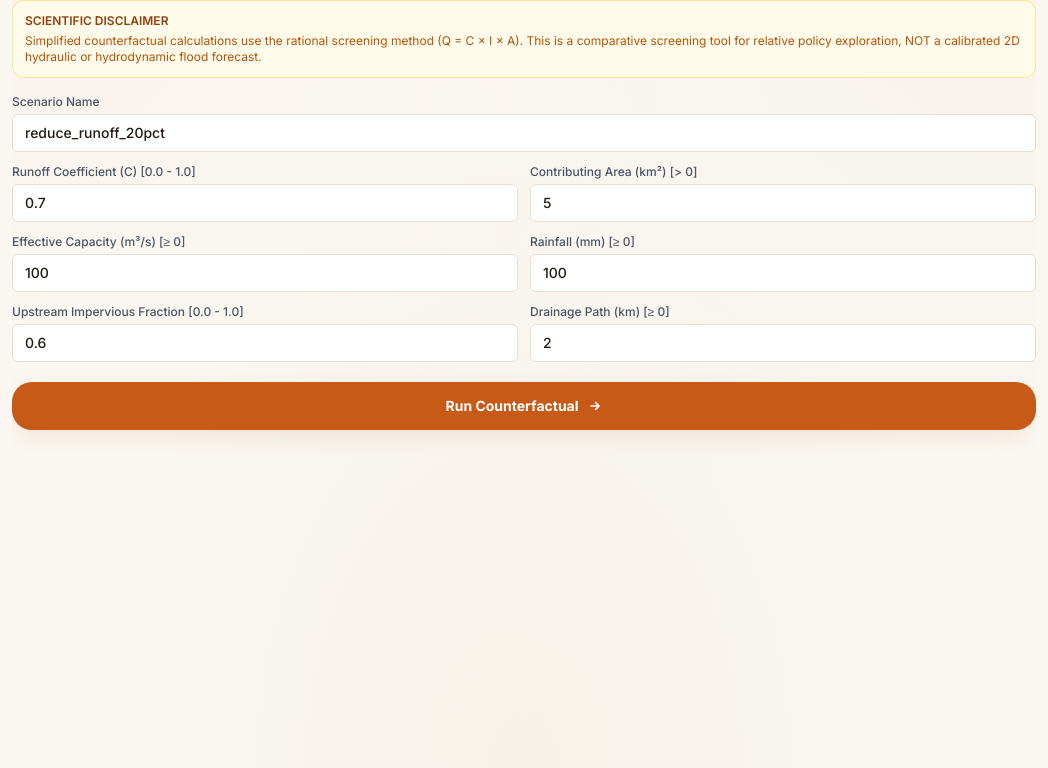
Scenario: CounterfactualForm › submits counterfactual and renders proxy results
Click the button "Run Counterfactual". click: (524, 406)
box: [12, 382, 1036, 430]
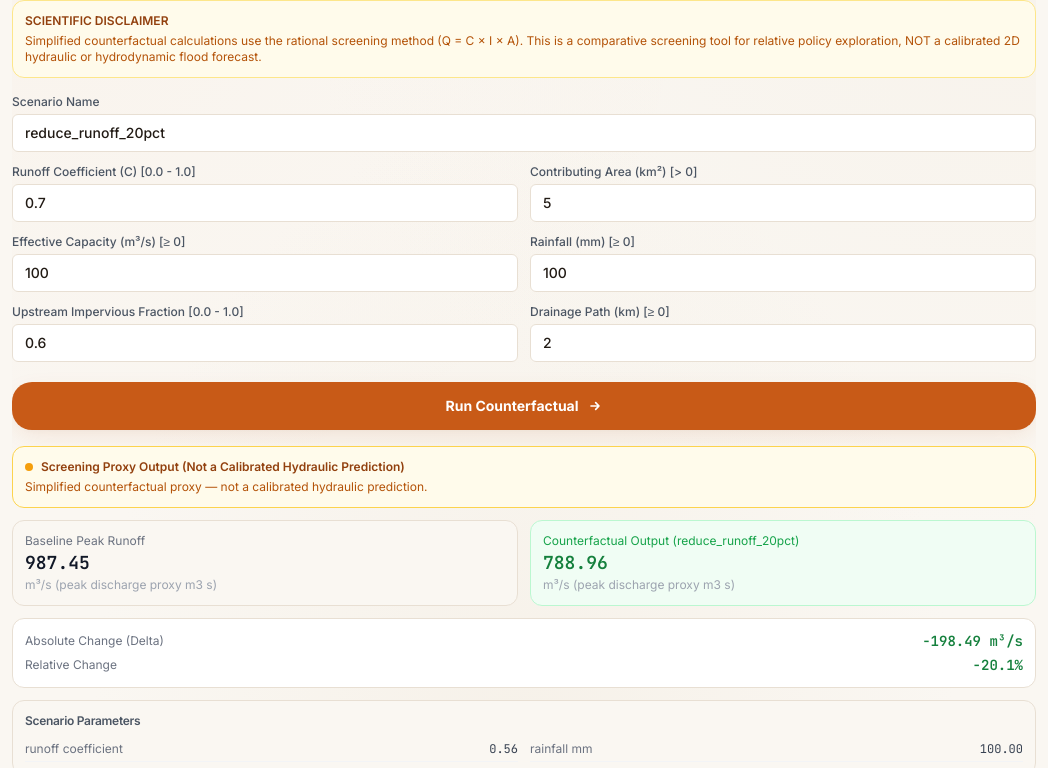
Check: the text "Screening Proxy Output (Not a Calibrated Hydraulic Prediction)" is shown, box [41, 459, 405, 475]
Check: the text "987.45" is shown, box [25, 551, 90, 574]
Check: the text "788.96" is shown, box [543, 551, 608, 574]
